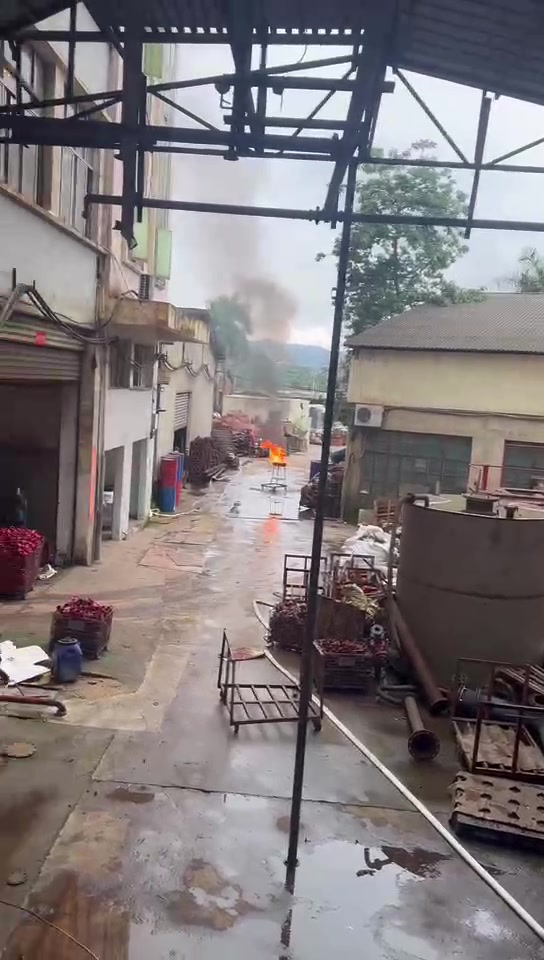fire: (261, 440, 284, 463)
